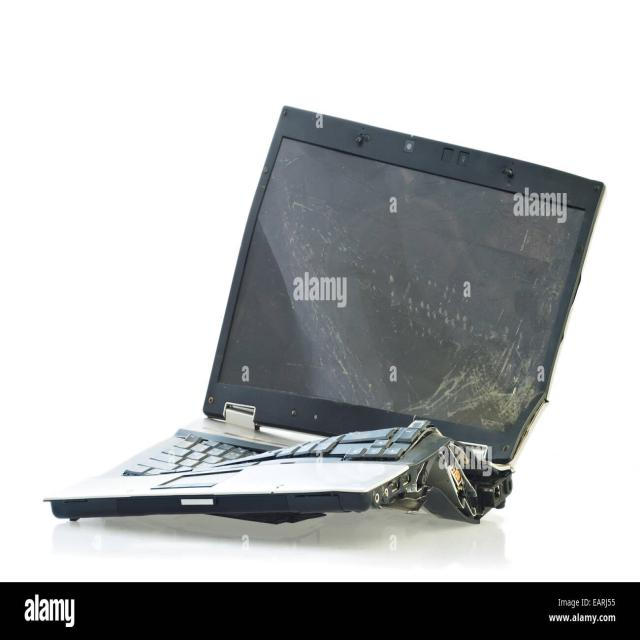laptop: (47, 107, 603, 522)
